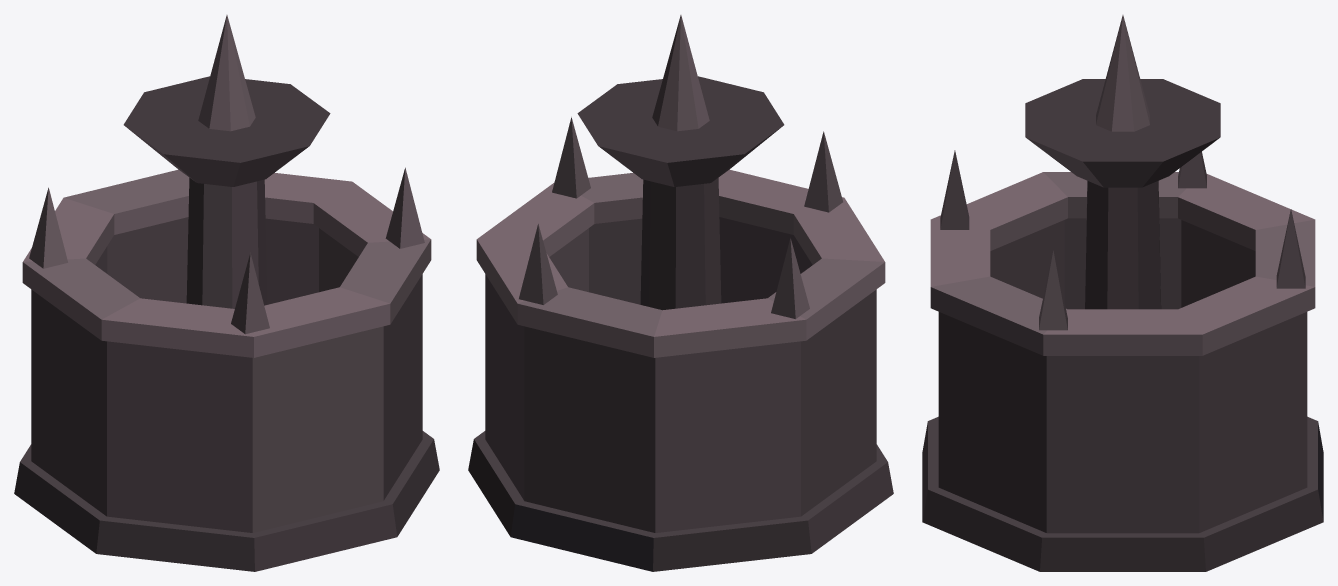
File: brunnen_a_verbraucht.glb
The picture shows the model from 3 angles, left to right: view 1: azimuth 30°, elevation 25°; view 2: azimuth 150°, elevation 25°; view 3: azimuth 270°, elevation 25°; orthographic projection.
Visible parts, largest first — view 1: brunnen; view 2: brunnen; view 3: brunnen.
Part boxes in pixels (x1=…): brunnen: x1=14, y1=15, x2=439, y2=571; brunnen: x1=468, y1=15, x2=893, y2=571; brunnen: x1=922, y1=15, x2=1323, y2=571.
Size of the model in its own units: 1.37 by 1.78 by 1.37.
